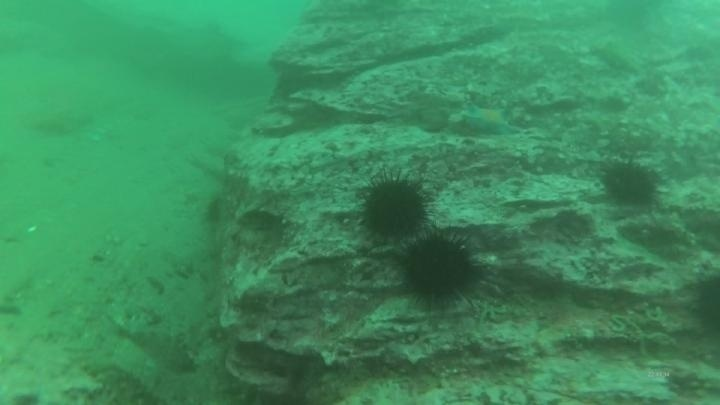echinus: (395, 228, 484, 311), (356, 170, 433, 246), (597, 156, 665, 211), (687, 267, 720, 339)
holothurian: (111, 308, 201, 376), (81, 355, 162, 405)
starfish: (461, 100, 520, 139)
